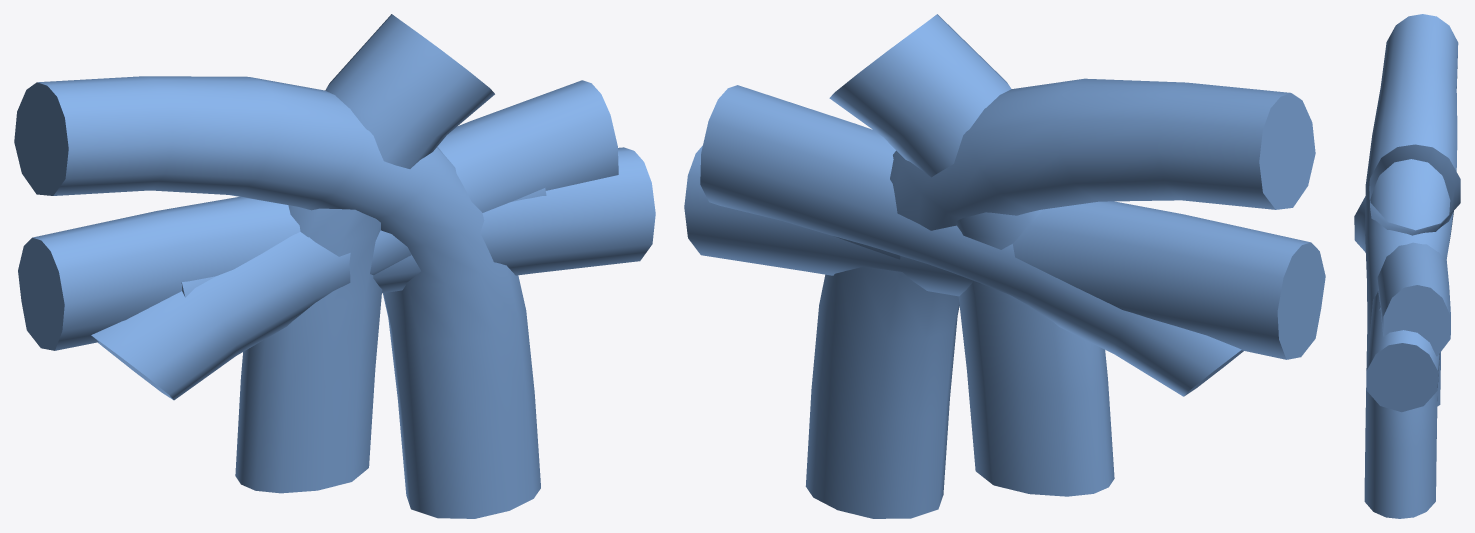
Rendered from Rope_parcali.fbx.
3 renders of one model, left to right at view 1: azimuth 30°, elevation 25°; view 2: azimuth 150°, elevation 25°; view 3: azimuth 270°, elevation 25°, orthographic. The views are drawn at different scales.
Parts seen in each view (by area): view 1: Rope.002, Rope.005, Rope.003, Rope.001; view 2: Rope.002, Rope.005, Rope.003, Rope.001; view 3: Rope.002, Rope.001, Rope.003, Rope.005.
Part boxes in pixels (x1=…): Rope.002: x1=14, y1=76, x2=540, y2=518; Rope.005: x1=235, y1=14, x2=494, y2=493; Rope.003: x1=18, y1=147, x2=655, y2=350; Rope.001: x1=91, y1=80, x2=618, y2=400; Rope.002: x1=805, y1=78, x2=1315, y2=518; Rope.005: x1=829, y1=14, x2=1114, y2=496; Rope.003: x1=684, y1=145, x2=1325, y2=359; Rope.001: x1=700, y1=85, x2=1243, y2=396; Rope.002: x1=1364, y1=14, x2=1458, y2=518; Rope.001: x1=1354, y1=196, x2=1450, y2=356; Rope.003: x1=1366, y1=291, x2=1439, y2=412; Rope.005: x1=1369, y1=144, x2=1460, y2=406.
Bounding box in the file's own units: 0.2266 × 0.1837 × 0.0513.
